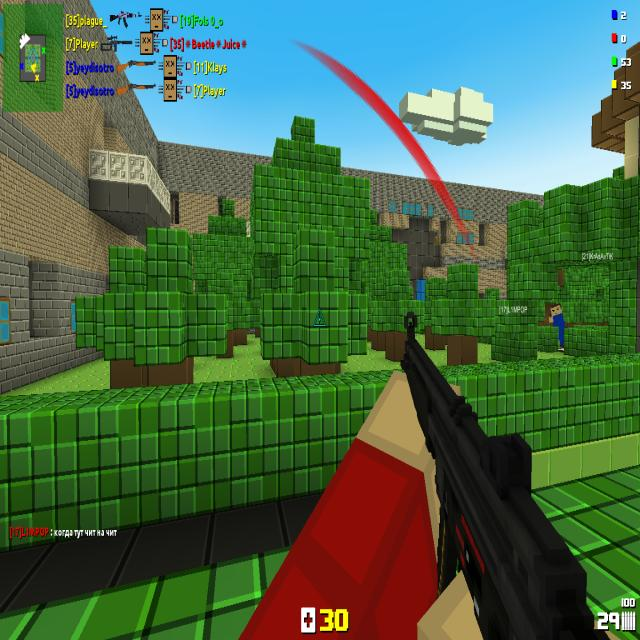enemy: (549, 302, 567, 348)
